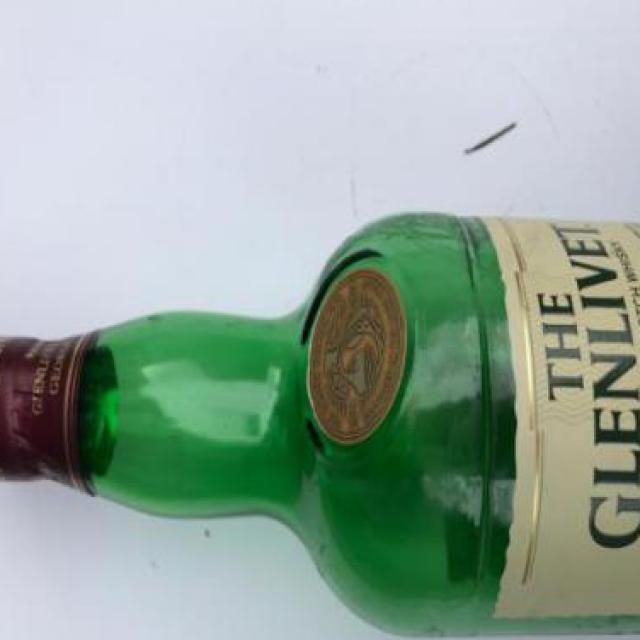kaca: (73, 211, 640, 638)
